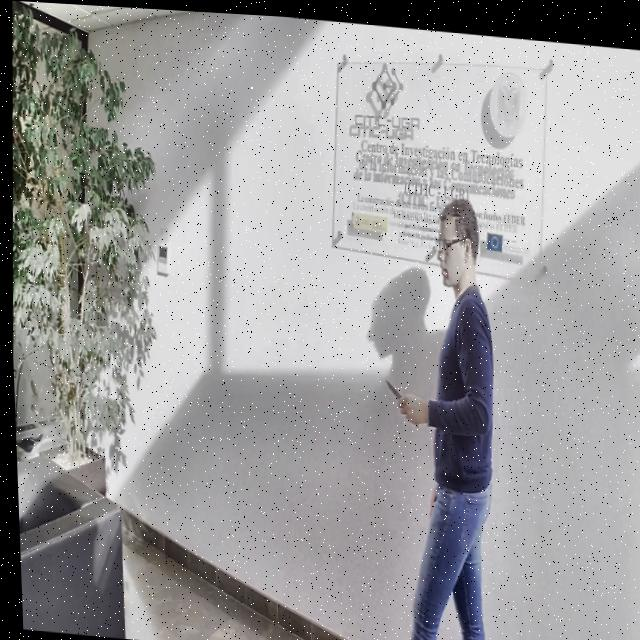knife: (380, 372, 399, 394)
